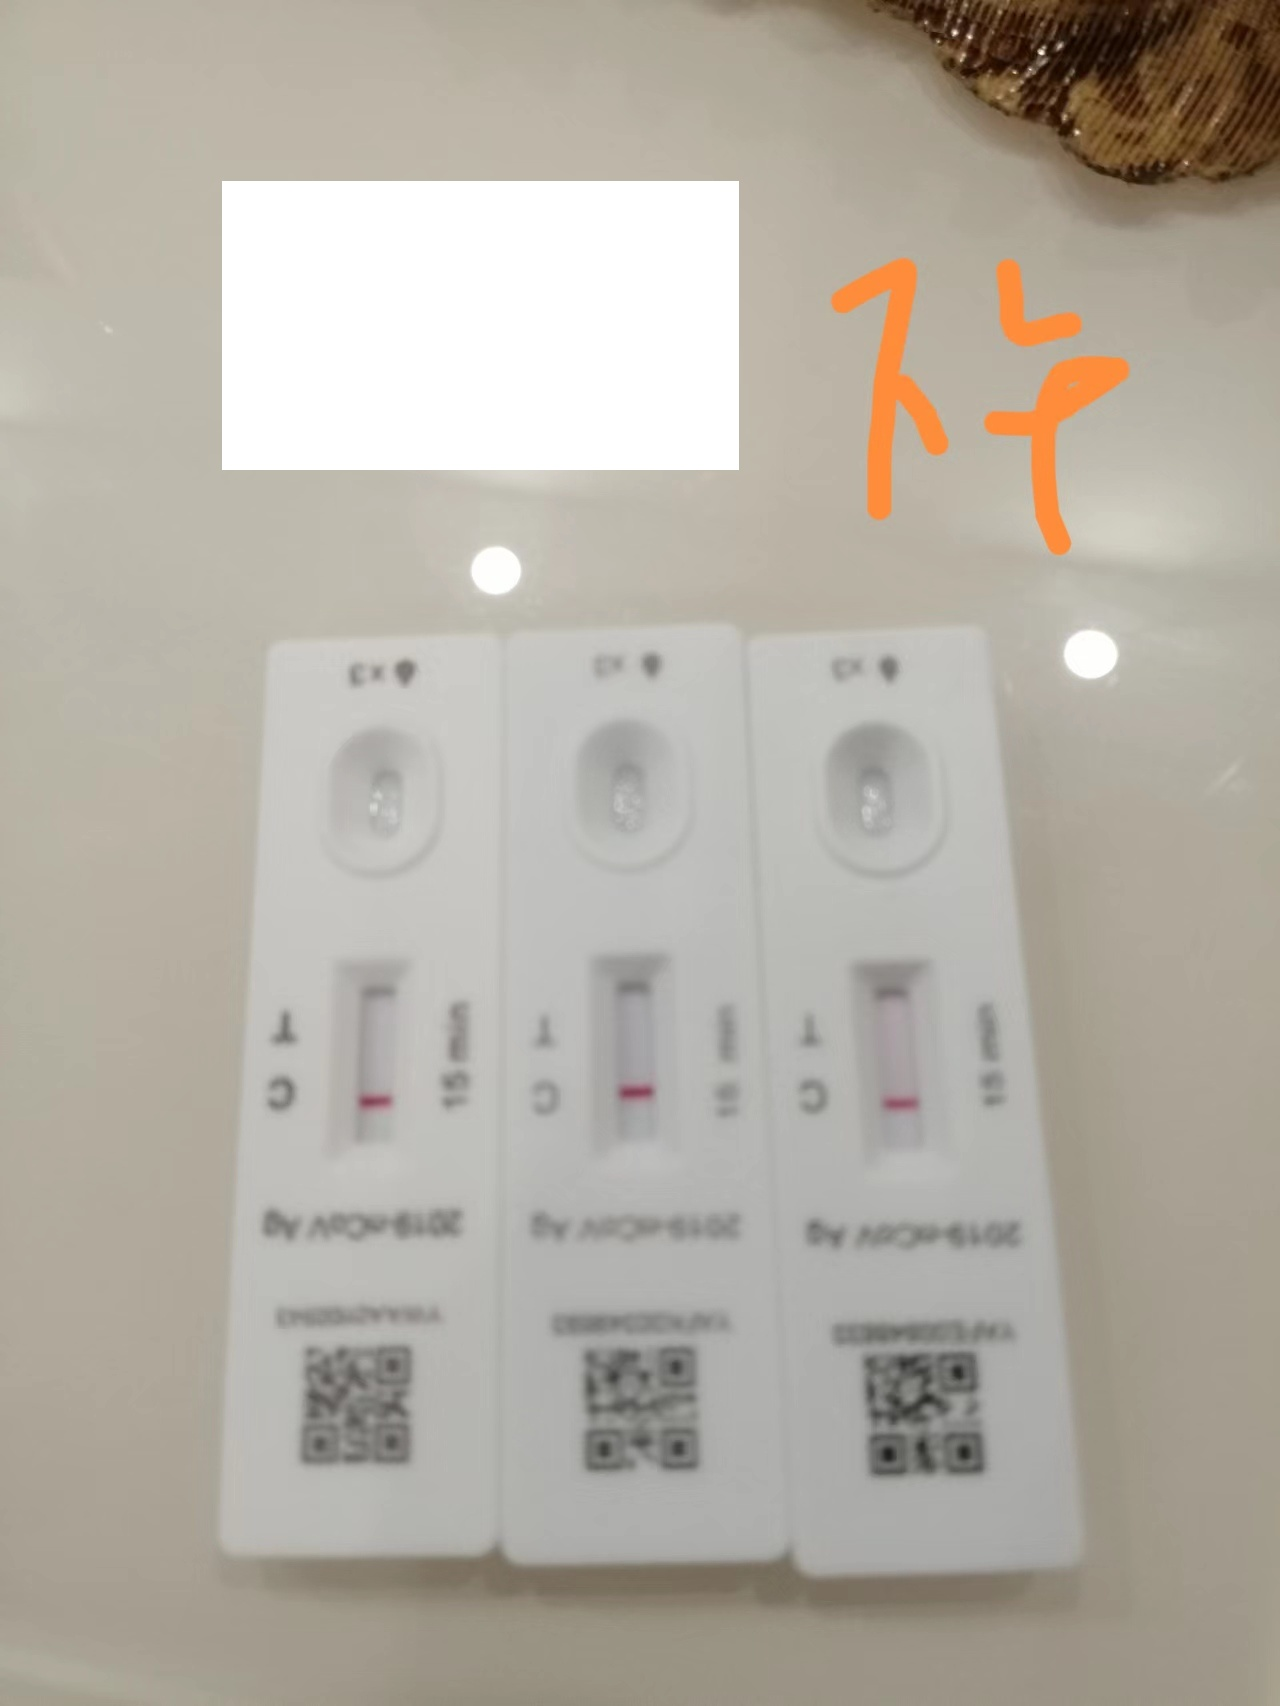negative: (848, 959, 948, 1170), (588, 953, 675, 1163), (327, 961, 411, 1157)
